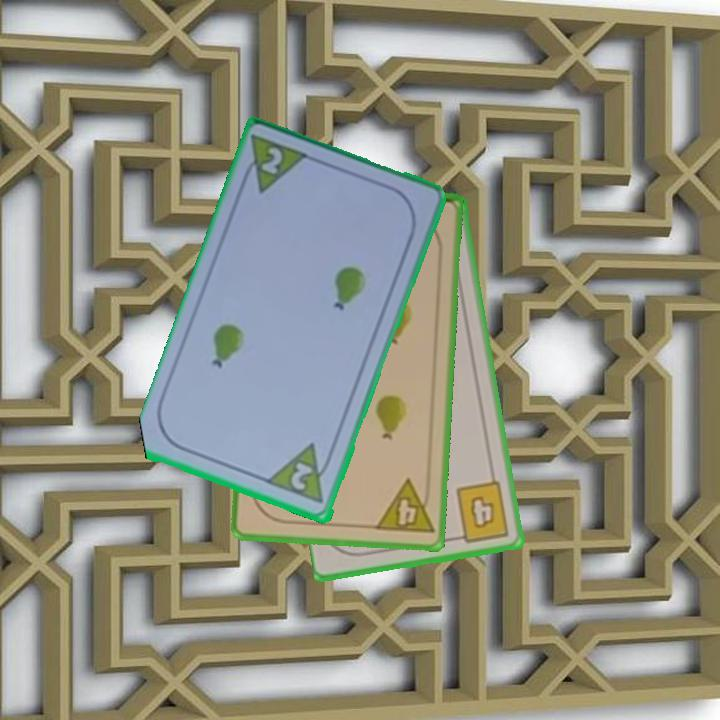2p: (236, 132, 313, 198), (265, 440, 337, 508)
4b: (450, 477, 512, 545)
4p: (371, 476, 437, 537)
